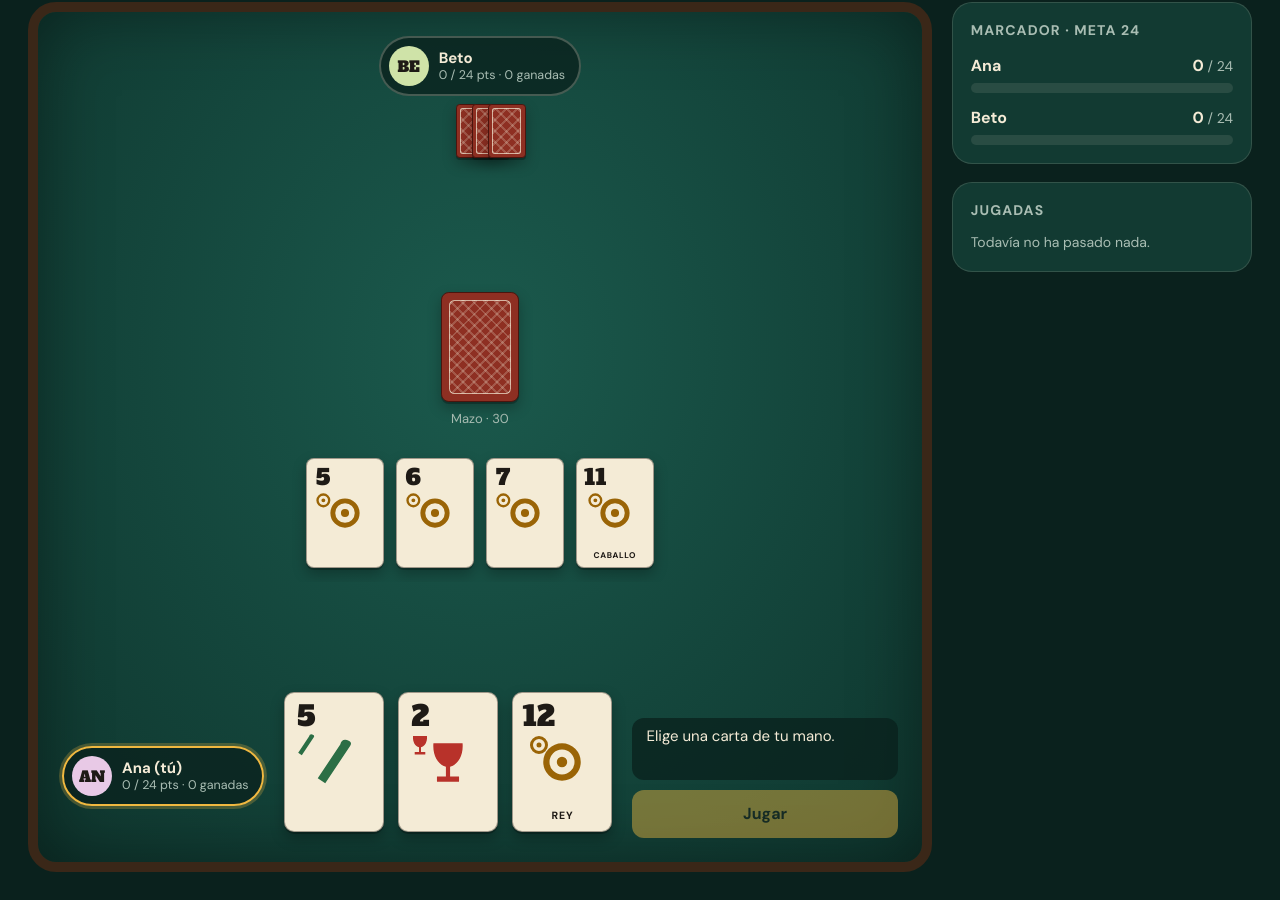
Test: GamePage · jugar › si no hay carta igual, avisa de que se queda en la mesa
(page scrolled)
Step 1. Click the button named "2 de copas" → coordinates (448, 765), box [398,692,498,838]
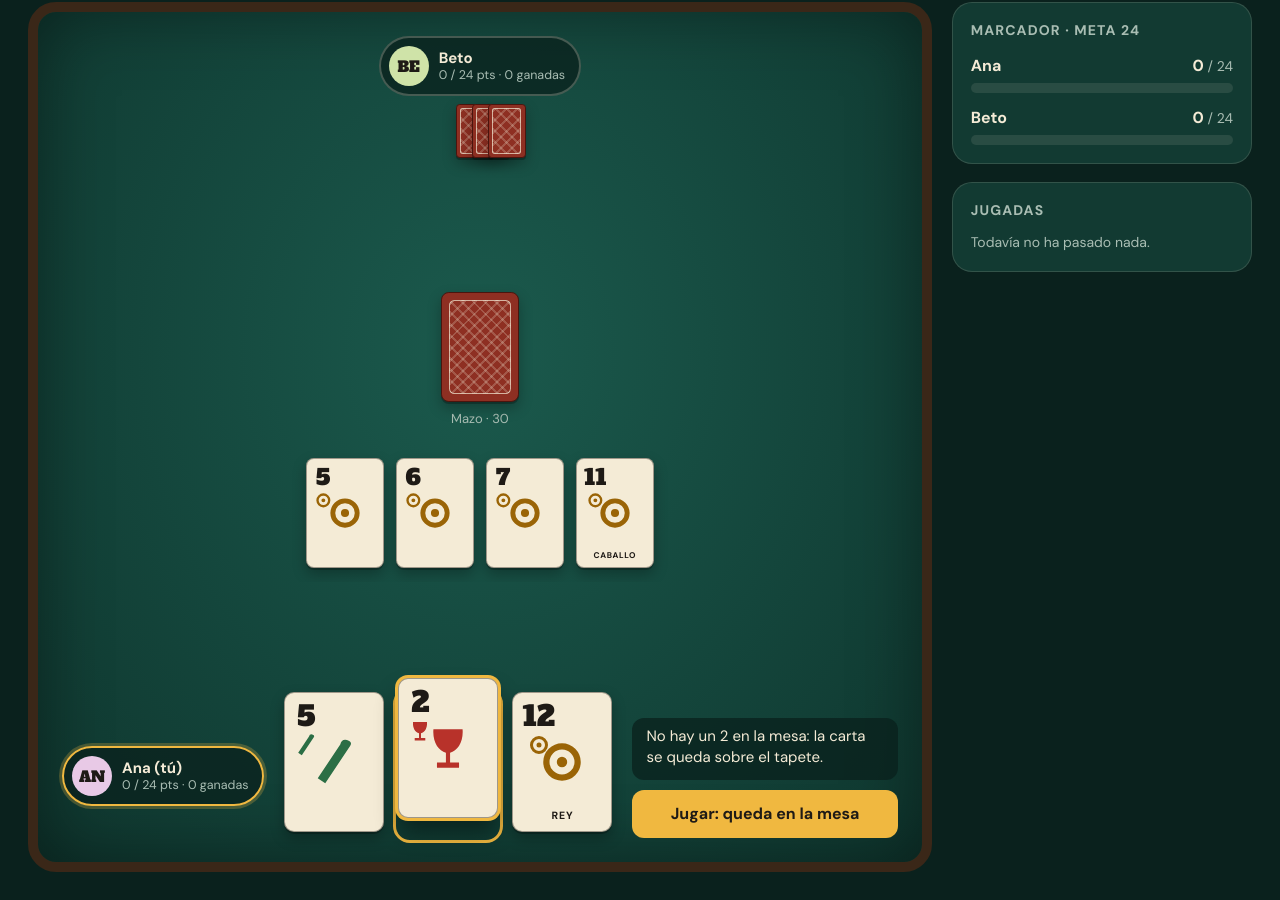
Result: the text "No hay un 2 en la mesa: la carta se queda sobre el tapete." is shown at [632,718,898,780]
